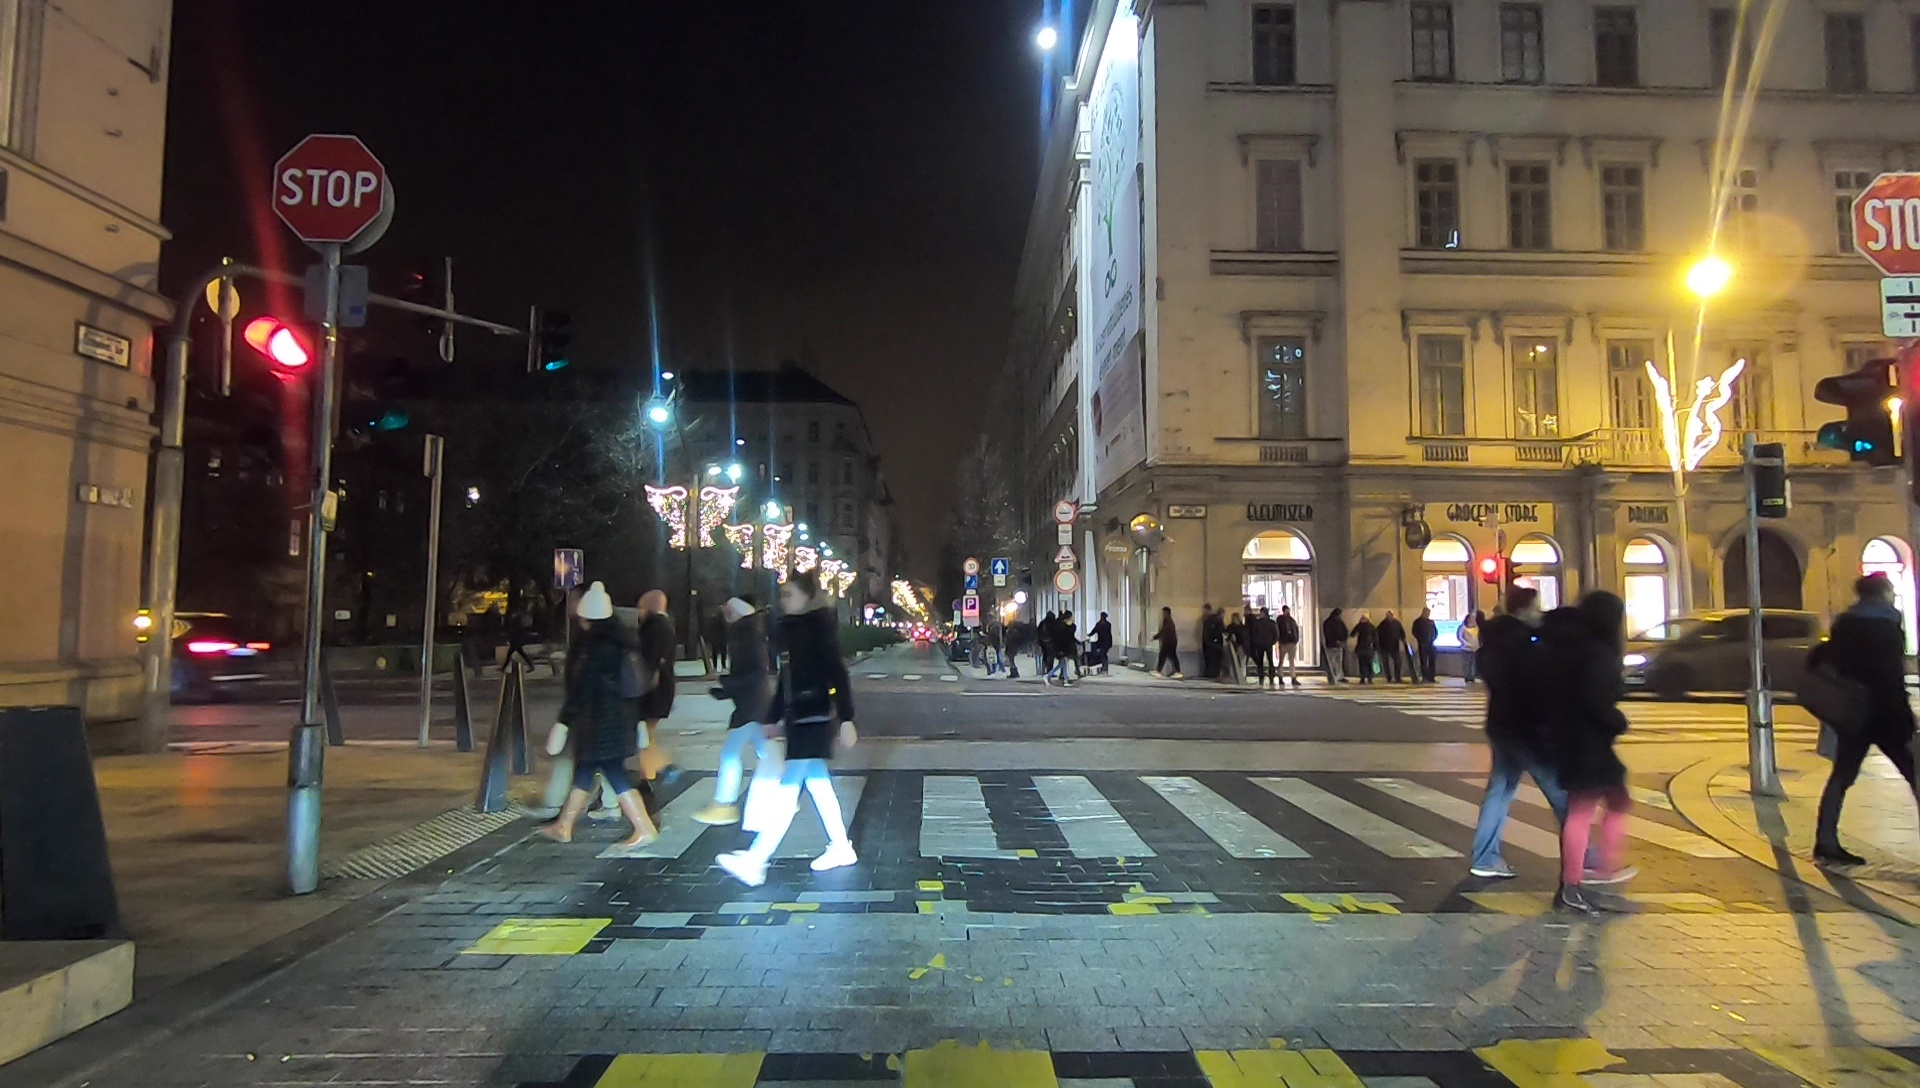person: (734, 565, 871, 874), (1806, 561, 1920, 882), (1464, 593, 1575, 887), (1551, 582, 1639, 934), (564, 578, 654, 852), (715, 591, 793, 832), (628, 595, 676, 789), (1382, 610, 1410, 684), (1278, 606, 1299, 687), (1321, 610, 1345, 682), (1199, 608, 1223, 678), (1414, 610, 1439, 676), (1354, 613, 1376, 686), (1158, 606, 1180, 674), (1228, 613, 1247, 686), (1056, 613, 1075, 686), (1093, 611, 1114, 671), (1252, 608, 1269, 682), (1002, 619, 1023, 678)
